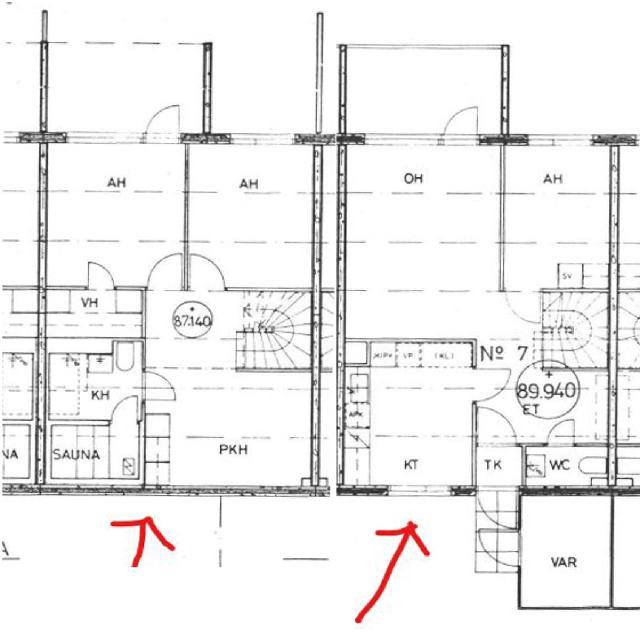door: (109, 375, 162, 429), (474, 403, 520, 450), (439, 100, 484, 148), (141, 98, 186, 146), (142, 246, 187, 294), (184, 247, 231, 292), (473, 483, 518, 530), (476, 530, 521, 574), (468, 364, 514, 404), (503, 286, 543, 326), (82, 255, 119, 294), (140, 368, 180, 404), (108, 393, 142, 427), (545, 416, 578, 450)
window: (57, 127, 145, 150), (357, 128, 444, 151), (222, 127, 302, 152), (378, 479, 461, 502), (520, 129, 597, 151), (50, 482, 130, 498), (155, 481, 198, 500)
zone: (141, 370, 320, 492), (41, 142, 186, 291), (188, 139, 319, 293), (338, 348, 477, 493), (338, 182, 504, 296), (501, 144, 617, 294), (35, 313, 147, 428), (518, 491, 614, 611), (340, 143, 500, 194), (42, 420, 143, 490), (522, 444, 613, 491), (512, 363, 582, 417), (0, 420, 39, 489), (613, 369, 640, 447)
